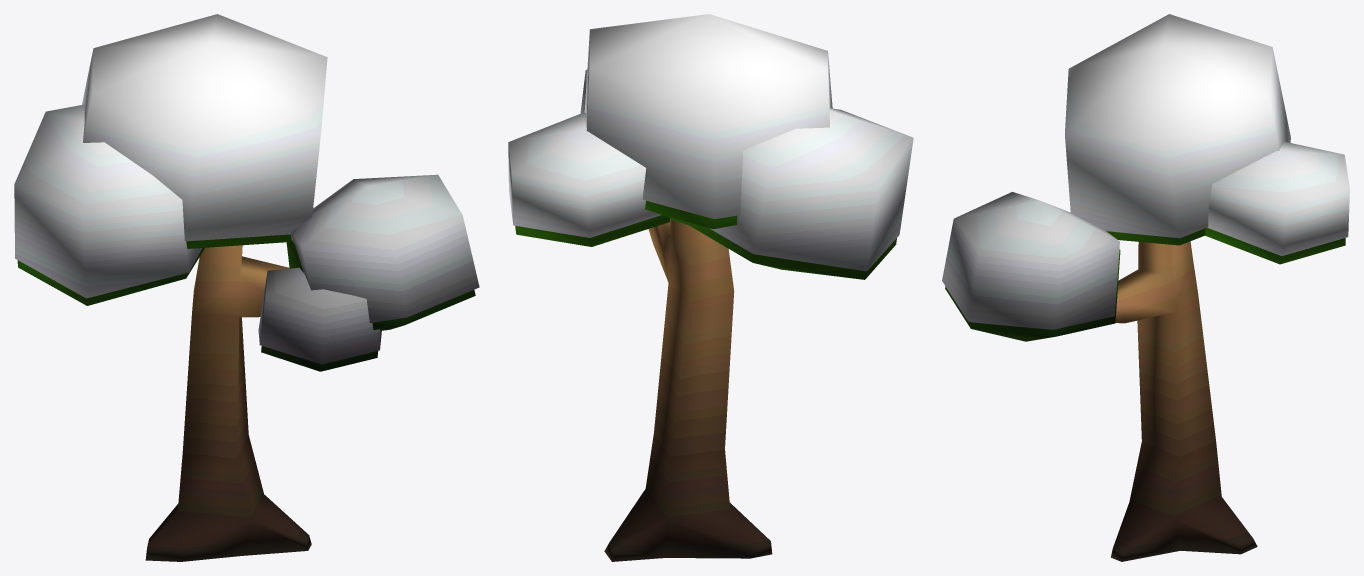
File: SM_Oak_Tree.fbx
3 views of the same model, side by side, from view 1: azimuth 30°, elevation 25°; view 2: azimuth 150°, elevation 25°; view 3: azimuth 270°, elevation 25° (orthographic). The views are drawn at different scales.
Parts seen in each view (by area): view 1: Oak_Leaves_Snow, Oak_Trunk, Oak_Leaves; view 2: Oak_Leaves_Snow, Oak_Trunk, Oak_Leaves; view 3: Oak_Leaves_Snow, Oak_Trunk, Oak_Leaves.
Boxes of the visible parts, <box> form: Oak_Leaves_Snow: <box>14,14,479,364</box>; Oak_Trunk: <box>145,245,311,561</box>; Oak_Leaves: <box>17,234,475,371</box>; Oak_Leaves_Snow: <box>508,14,913,271</box>; Oak_Trunk: <box>604,219,772,561</box>; Oak_Leaves: <box>515,200,896,279</box>; Oak_Leaves_Snow: <box>942,14,1349,329</box>; Oak_Trunk: <box>1111,241,1257,561</box>; Oak_Leaves: <box>945,227,1345,341</box>.
Size of the model in its own units: 7.17 by 9.44 by 7.26.
